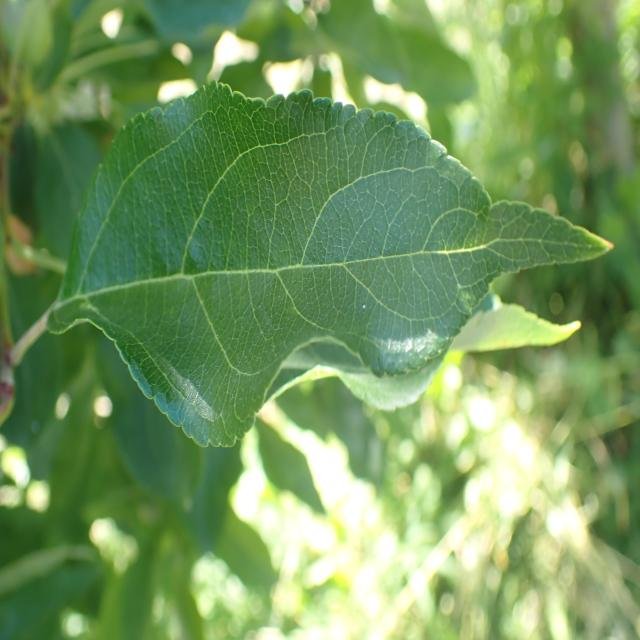healthy: (47, 79, 615, 450)
